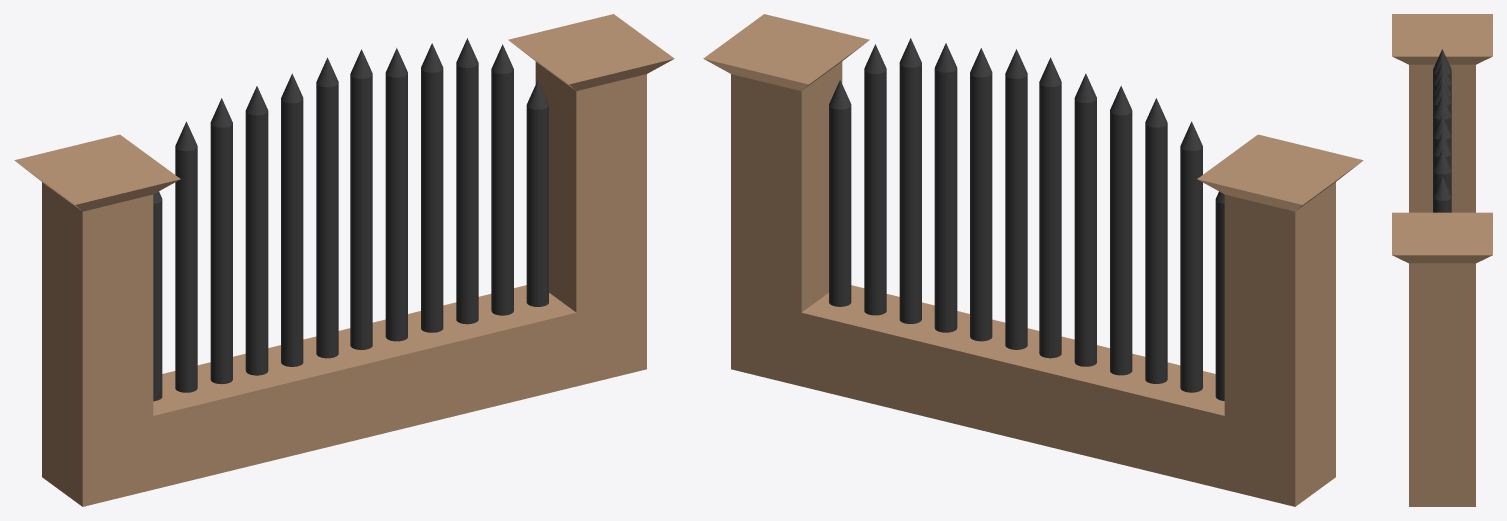
File: parkFence.fbx
3 views of the same model, side by side, from view 1: azimuth 30°, elevation 25°; view 2: azimuth 150°, elevation 25°; view 3: azimuth 270°, elevation 25° (orthographic). The views are drawn at different scales.
Visible parts, largest first — view 1: Cube; view 2: Cube; view 3: Cube.
Part boxes in pixels (<box>): Cube: <box>14,14,674,506</box>; Cube: <box>703,14,1363,506</box>; Cube: <box>1392,14,1492,506</box>.
Bounding box in the file's own units: 850 × 501 × 150.
